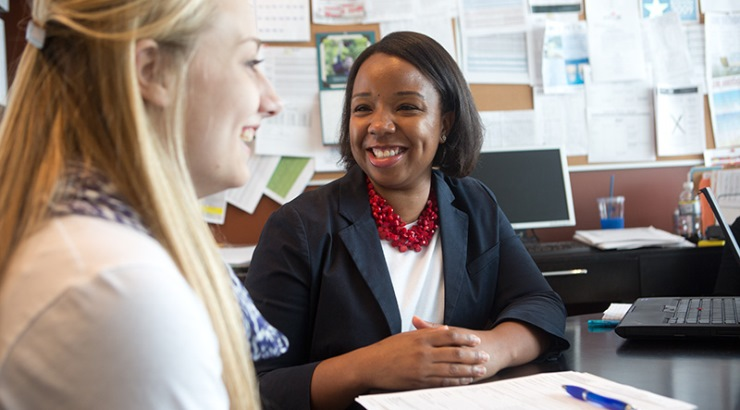Person: (10, 8, 280, 410), (291, 27, 547, 364)
